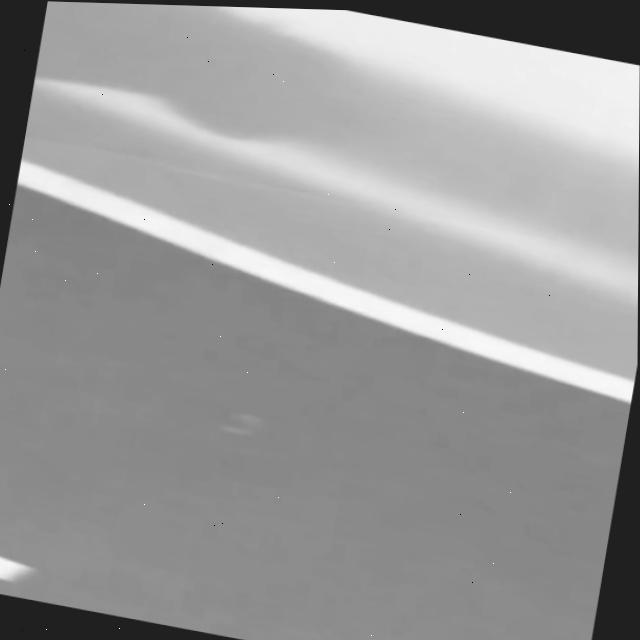center: (0, 558, 33, 581)
right: (16, 161, 634, 404)
